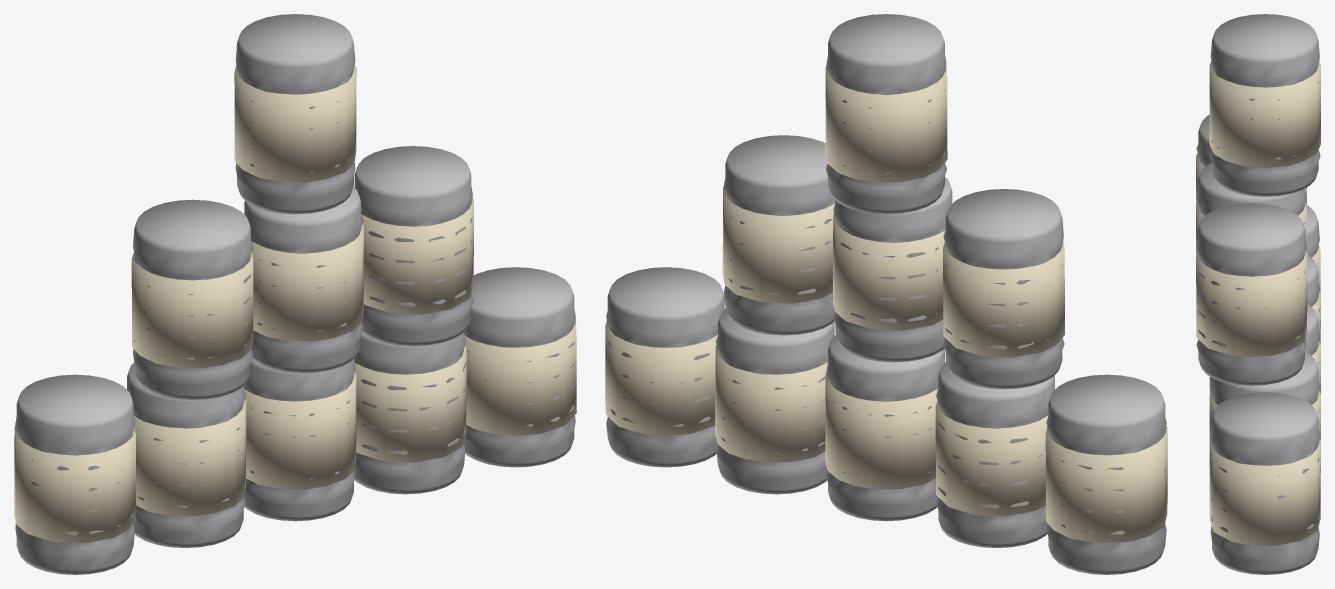
Rendered from pantry_cans.glb.
3 views of the same model, side by side, from view 1: azimuth 30°, elevation 25°; view 2: azimuth 150°, elevation 25°; view 3: azimuth 270°, elevation 25° (orthographic). The views are drawn at different scales.
Parts seen in each view (by area): view 1: pantry_cans; view 2: pantry_cans; view 3: pantry_cans.
Part boxes in pixels (bbox=[...]): pantry_cans: bbox=[14, 14, 576, 574]; pantry_cans: bbox=[605, 14, 1167, 574]; pantry_cans: bbox=[1196, 14, 1320, 574].
Size of the model in its own units: 0.4265 by 0.343 by 0.0925.
